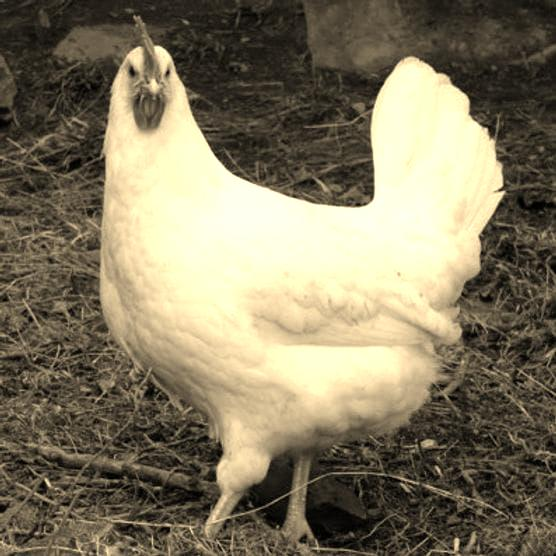Healthy: (88, 19, 505, 538)
